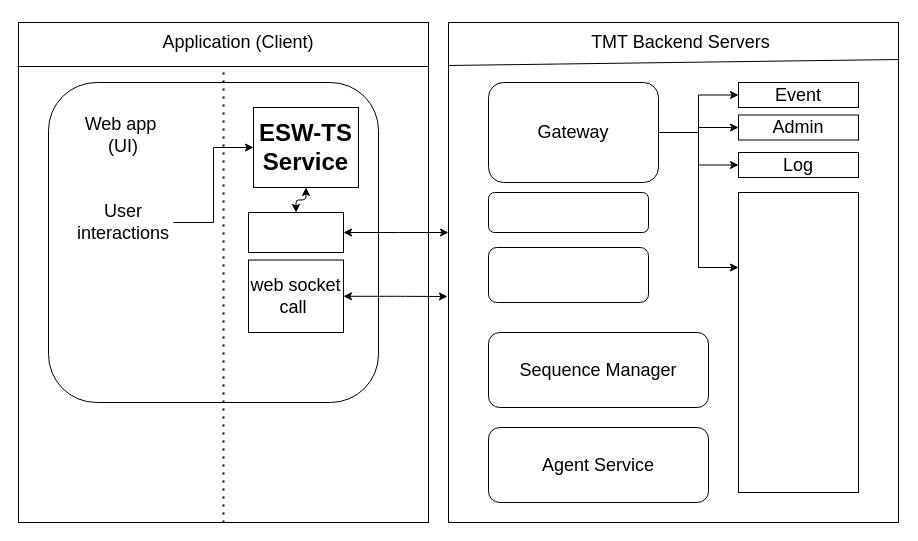
Image size: 918x541. Some labels were removed from this diagram. The centre of each missing label's shape, as x and y in pixels:
"Config" belongs at (x=568, y=274).
"fetch call" belongs at (x=296, y=232).
"Location" belongs at (x=568, y=212).
"Underlying TMT Sequencers and components" belongs at (x=798, y=342).
